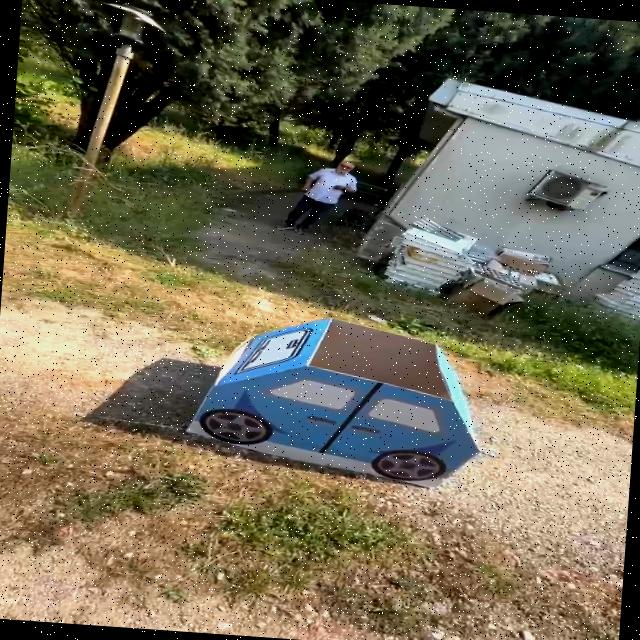blue_car: (168, 292, 510, 508)
